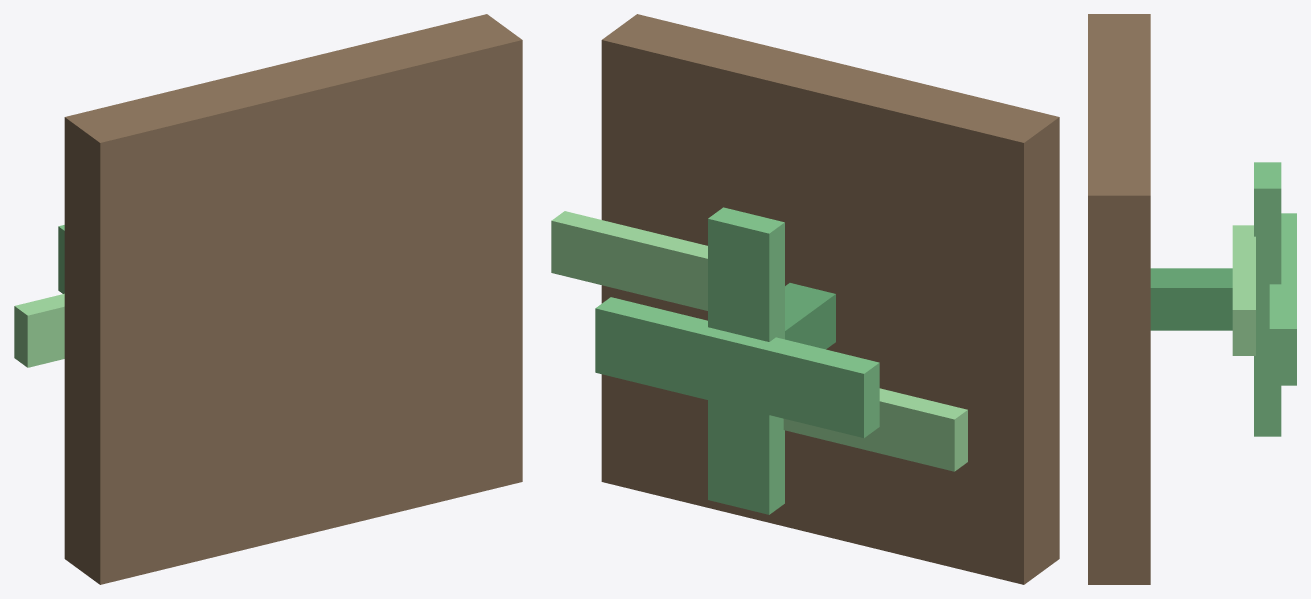
Rendered from fern_patch.glb.
The picture shows the model from 3 angles, left to right: view 1: azimuth 30°, elevation 25°; view 2: azimuth 150°, elevation 25°; view 3: azimuth 270°, elevation 25°; orthographic projection. The views are drawn at different scales.
Parts seen in each view (by area): view 1: fern_Soil, fern_Frond4; view 2: fern_Soil, fern_Frond1, fern_Frond2, fern_Frond3, fern_Frond4, fern_StemC; view 3: fern_Soil, fern_Frond2, fern_StemC, fern_Frond1, fern_Frond3.
Part boxes in pixels (x1,y1,x2,y2): fern_Soil: (64, 14, 522, 584); fern_Frond4: (14, 293, 64, 367); fern_Soil: (601, 14, 1059, 584); fern_Frond1: (595, 297, 879, 437); fern_Frond2: (708, 207, 784, 514); fern_Frond3: (551, 211, 707, 310); fern_Frond4: (783, 388, 967, 471); fern_StemC: (785, 283, 835, 349); fern_Soil: (1088, 14, 1150, 584); fern_Frond2: (1254, 162, 1281, 436); fern_StemC: (1150, 268, 1232, 330); fern_Frond1: (1269, 213, 1296, 385); fern_Frond3: (1232, 235, 1255, 355).
Bounding box in the file's own units: 1.1 × 1.1 × 0.535.
